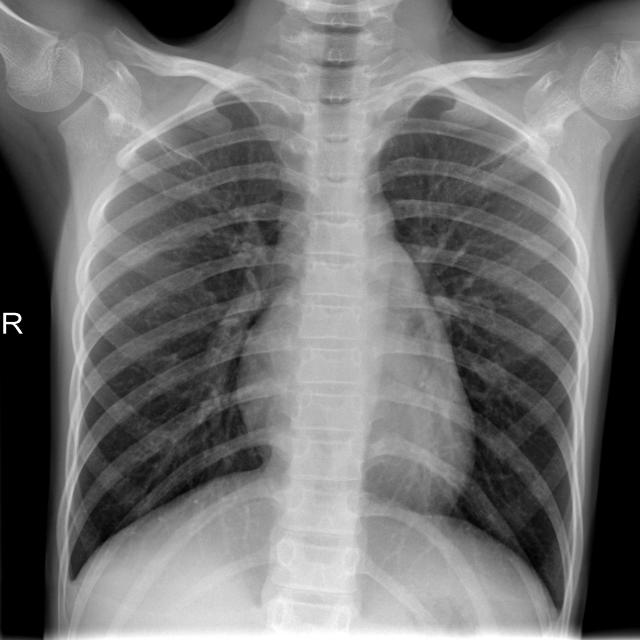no-pneumonia: (68, 94, 304, 578), (380, 93, 585, 607)
